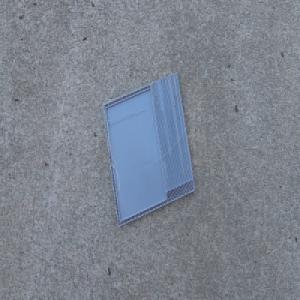PlasticPart: (102, 71, 196, 228)
